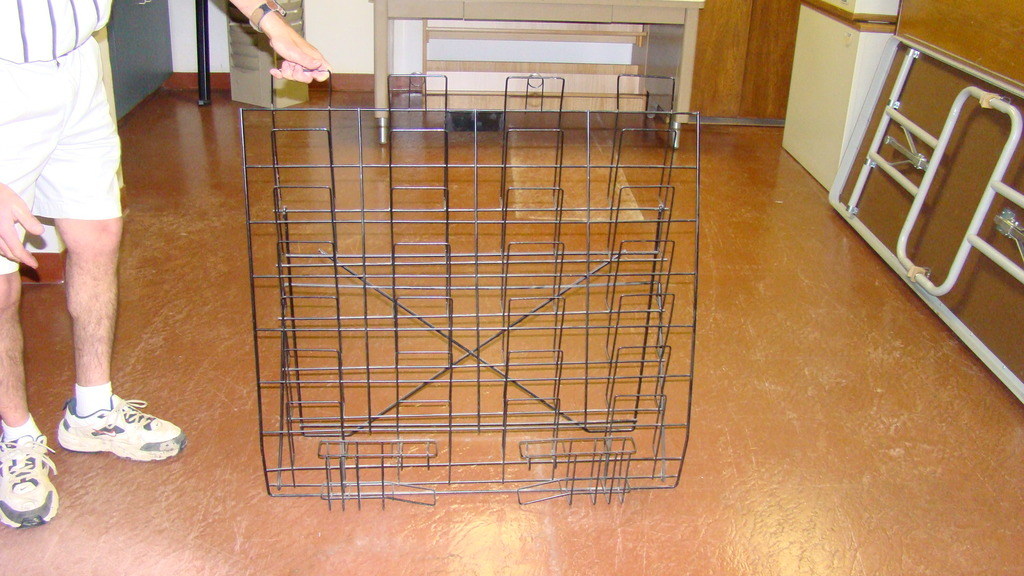Person: (0, 0, 333, 528)
